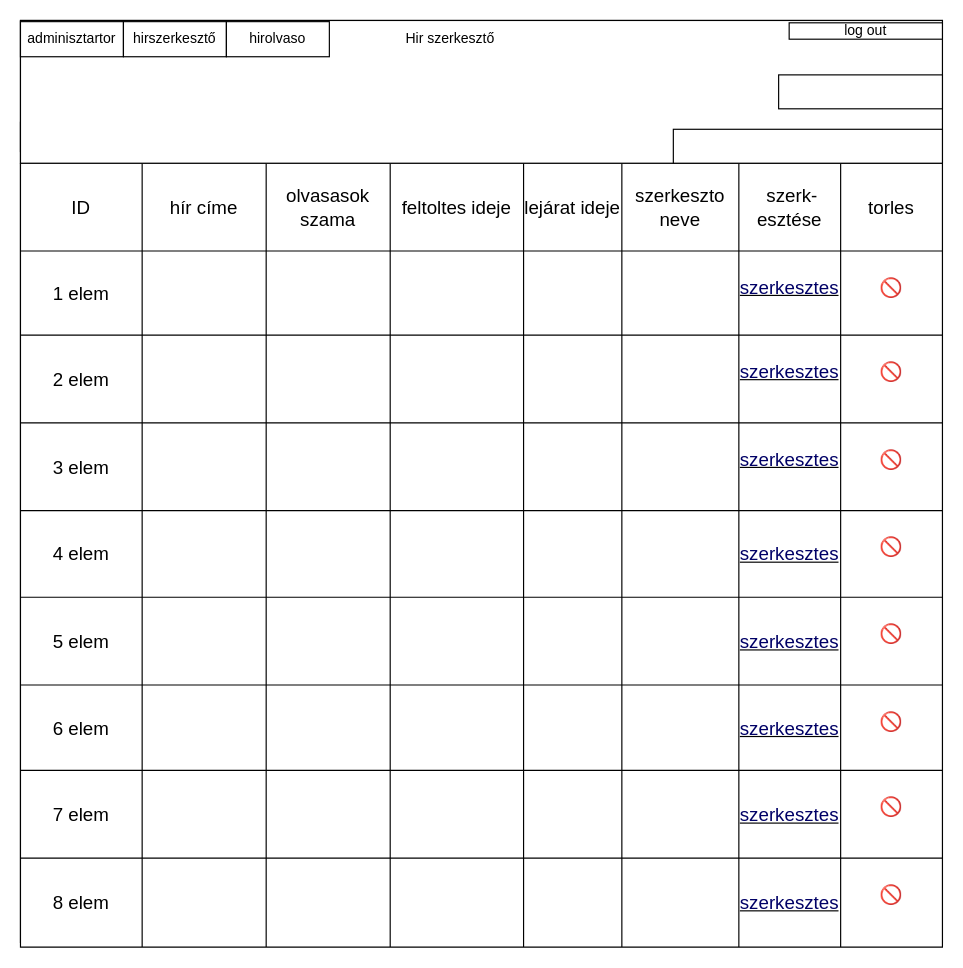
Some shapes in this 963 by 968 pixel diagram are drawn without their labels. Here are the shapes that lost their labels. From the top down, the box of each, then its label:
(777, 74, 942, 109): Új Hír
(672, 128, 942, 163): Search
